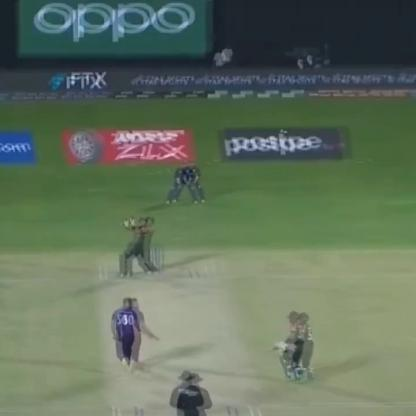ball: (278, 126, 289, 136)
pitch: (85, 250, 273, 416)
